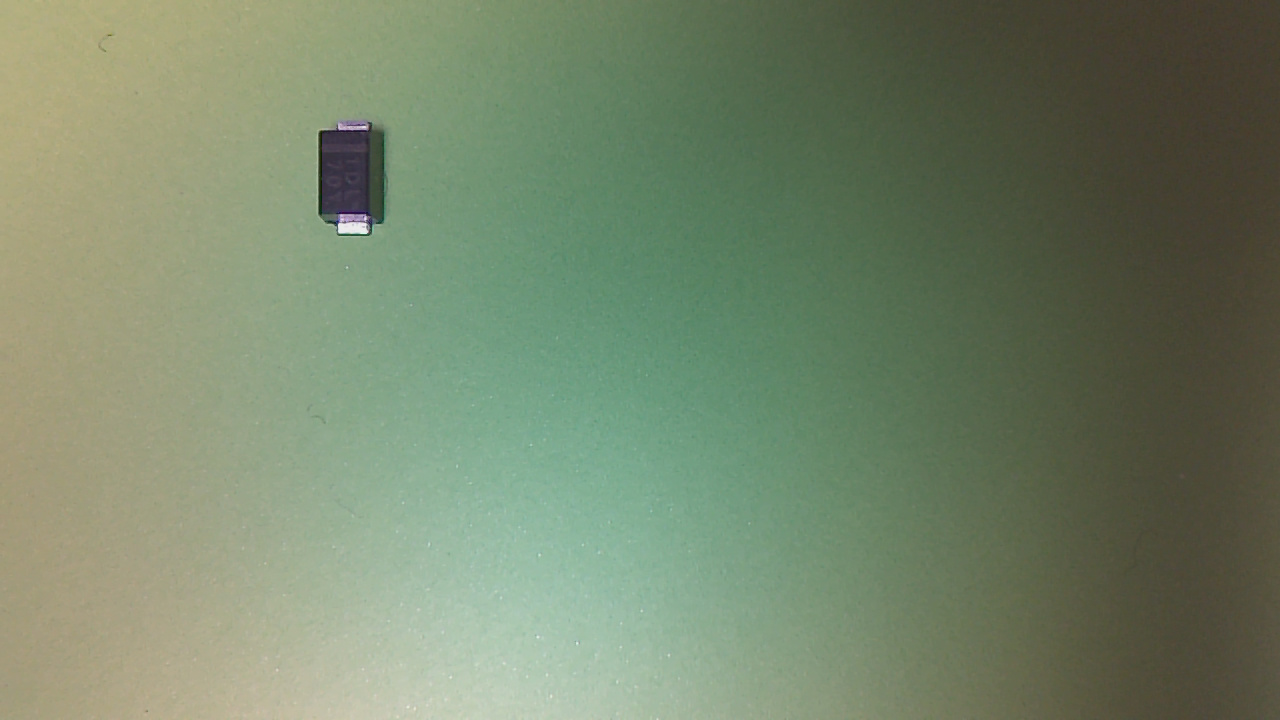Diode: (318, 122, 392, 244)
